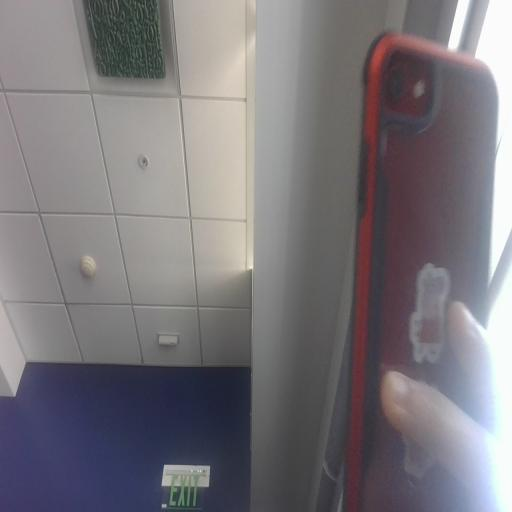phone: (331, 5, 512, 511)
